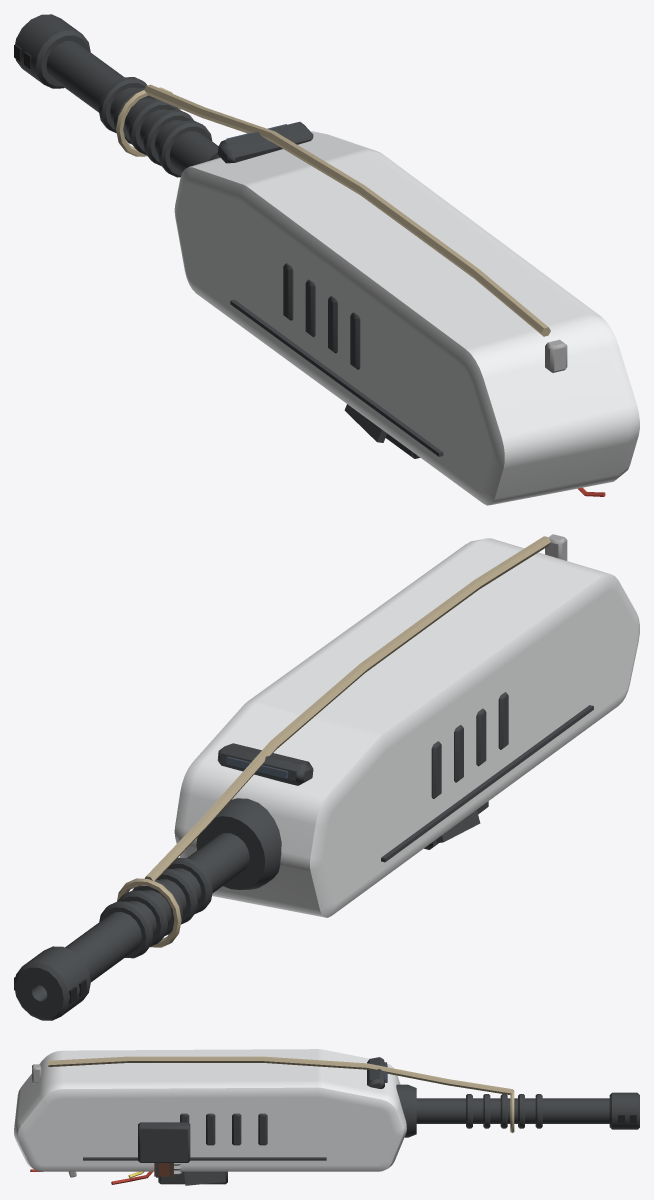
Rendered from robot_gunpod.glb.
3 renders of one model, top to bottom at view 1: azimuth 30°, elevation 25°; view 2: azimuth 150°, elevation 25°; view 3: azimuth 270°, elevation 25°, orthographic. The views are drawn at different scales.
Visible parts, largest first — view 1: body; view 2: body; view 3: body.
Part boxes in pixels (<box>): body: <box>14,14,639,505</box>; body: <box>14,534,639,1020</box>; body: <box>14,1049,639,1185</box>.
Size of the model in its own units: 0.198 by 0.2228 by 1.08.
